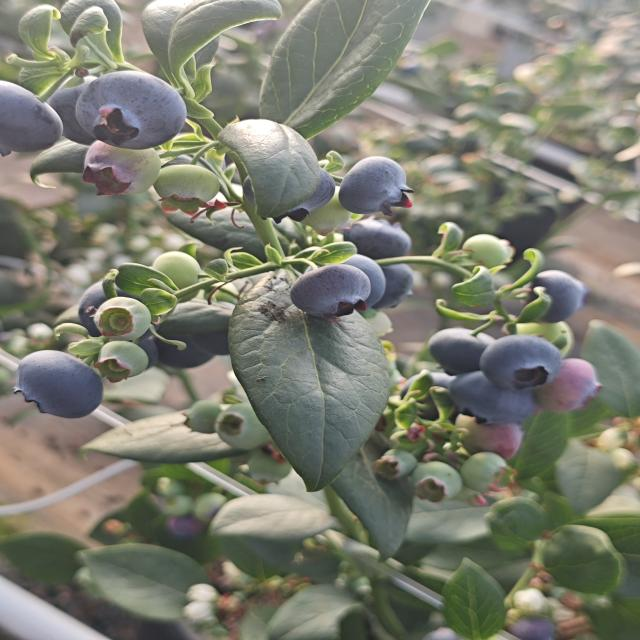ripe: (72, 69, 190, 152), (11, 348, 106, 421), (136, 306, 230, 374), (446, 368, 540, 434), (72, 274, 164, 339), (476, 332, 564, 393), (335, 154, 417, 219), (287, 262, 374, 323), (342, 252, 427, 313), (518, 259, 592, 329), (1, 78, 65, 158), (271, 152, 338, 226), (401, 368, 472, 423), (424, 320, 496, 368), (343, 211, 413, 259)
